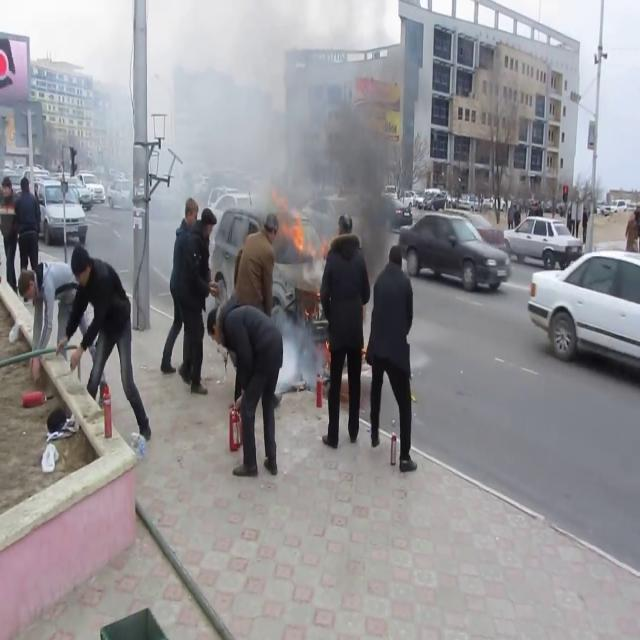Fire: (276, 204, 312, 258)
Smoke: (252, 2, 404, 258)
